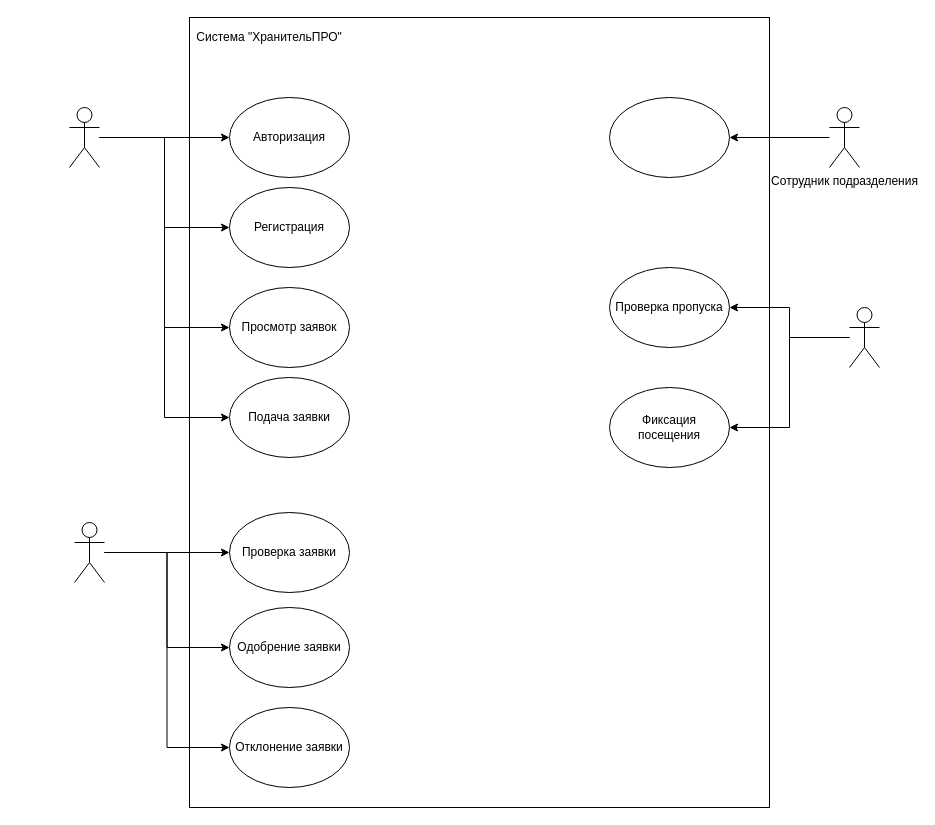
The diagram is 935 pixels wide and 825 high, and some of its shapes have lost their labels. Each missing label, with the centre of its shape:
"Пользователь" goes at (84,137).
"Прием посетителя" goes at (669,137).
"Сотрудник общего отдела" goes at (89,552).
"Сотрудник охраны" goes at (864,337).
